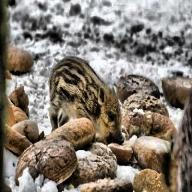boar: (43, 48, 122, 140)
